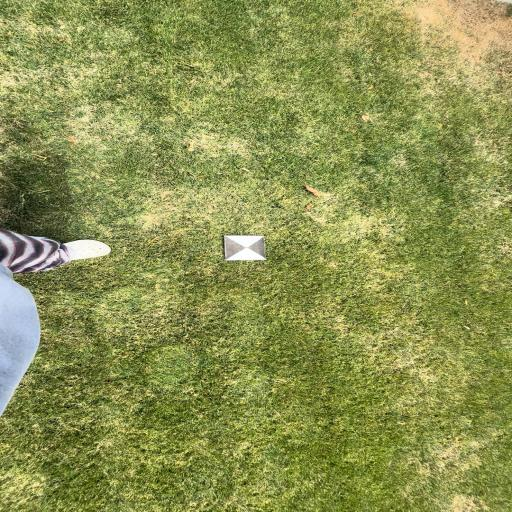target: (224, 235, 267, 260)
